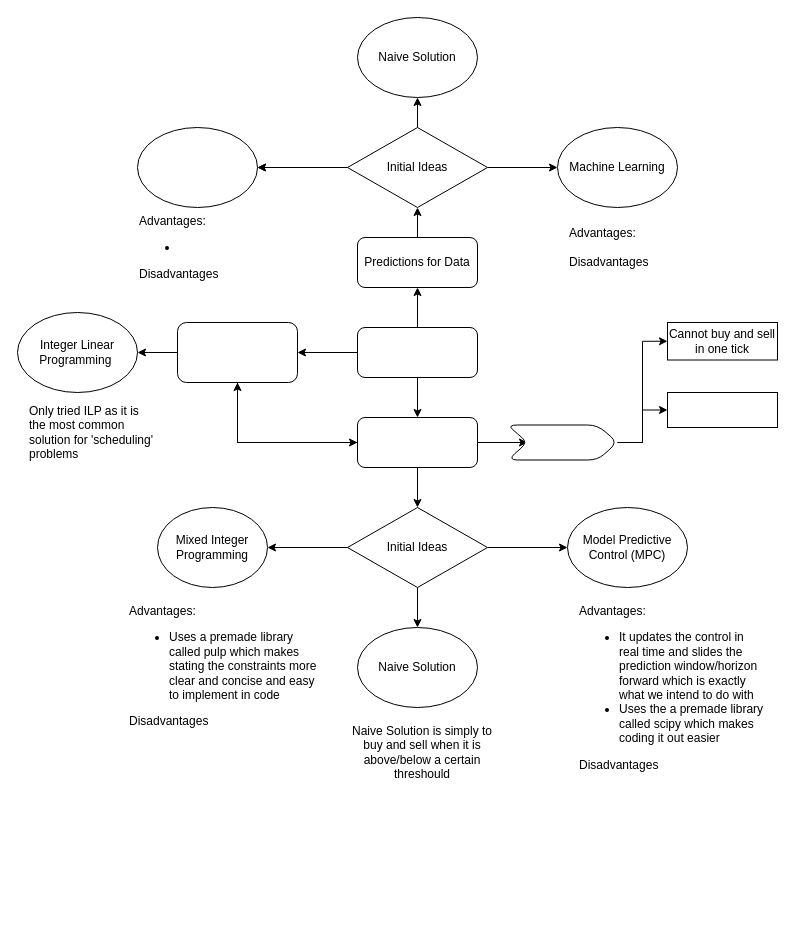
The diagram is 795 pixels wide and 925 high, and some of its shapes have lost their labels. The shapes that lost their labels are listed below. From the top down, each one's centre as x and y in pixels, then its label:
At [197,167]: "AutoRegressive Integrated Moving Average (ARIMA)".
At [237,352]: "Scheduling of Deferable Demands".
At [417,352]: "Buy Sell Algorithm".
At [417,442]: "Optimization Algorithm".
At [562,442]: "Hardware Limitations".
